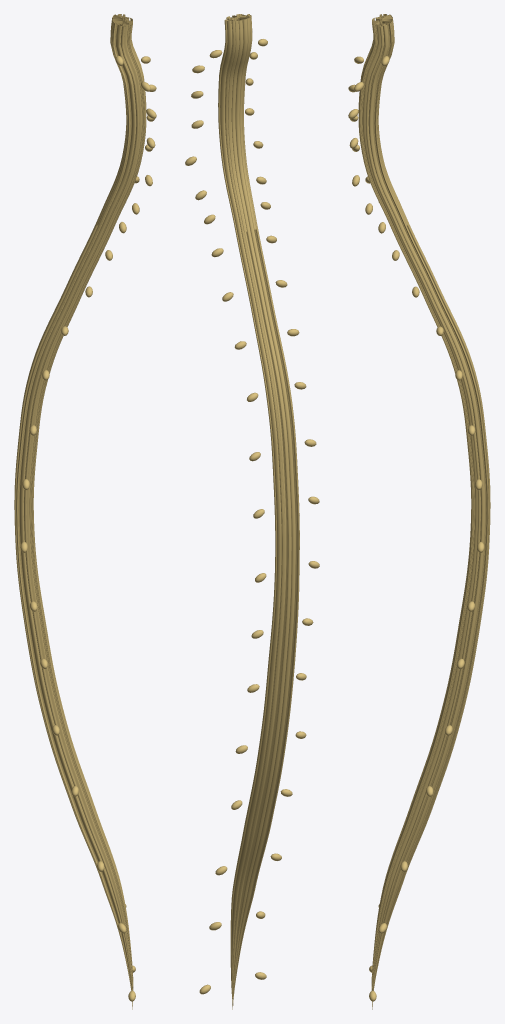
The model's file is detail-nervous-whole-body.glb.
The picture shows the model from 3 angles, left to right: view 1: azimuth 90°, elevation 25°; view 2: azimuth 210°, elevation 25°; view 3: azimuth 270°, elevation 25°; orthographic projection.
Parts seen in each view (by area): view 1: za-794c8e431eacb7d1, za-3147a61f35a69bbc, za-535060ba28efe570, za-5c920ed8e05618fb, za-13360d38b338aaea, za-e3a7a675aace38d2, za-fe5159e5497d60cb, za-53b4f8adfc29835c, za-d963b4cef1d99f9d, za-4b75edaa37323a57, za-6df30f7fd95fc127, za-dd7c6d2fd792ba56; view 2: za-fe5159e5497d60cb, za-535060ba28efe570, za-3147a61f35a69bbc, za-6d7f4eff938b5842, za-5c920ed8e05618fb, za-2bfb4070e730cfe8, za-dd7c6d2fd792ba56, za-53b4f8adfc29835c, za-794c8e431eacb7d1; view 3: za-794c8e431eacb7d1, za-3147a61f35a69bbc, za-535060ba28efe570, za-5c920ed8e05618fb, za-13360d38b338aaea, za-e3a7a675aace38d2, za-fe5159e5497d60cb, za-2bfb4070e730cfe8, za-4b75edaa37323a57, za-d963b4cef1d99f9d, za-6df30f7fd95fc127, za-dd7c6d2fd792ba56.
Boxes of the visible parts, left/top/right/bottom form: za-794c8e431eacb7d1: left=18, top=15, right=142, bottom=1009; za-3147a61f35a69bbc: left=19, top=14, right=135, bottom=990; za-535060ba28efe570: left=16, top=14, right=132, bottom=1005; za-5c920ed8e05618fb: left=24, top=14, right=139, bottom=990; za-13360d38b338aaea: left=32, top=18, right=146, bottom=987; za-e3a7a675aace38d2: left=30, top=20, right=146, bottom=988; za-fe5159e5497d60cb: left=14, top=16, right=132, bottom=1006; za-53b4f8adfc29835c: left=20, top=55, right=156, bottom=1001; za-d963b4cef1d99f9d: left=29, top=17, right=142, bottom=987; za-4b75edaa37323a57: left=31, top=18, right=144, bottom=990; za-6df30f7fd95fc127: left=23, top=15, right=136, bottom=989; za-dd7c6d2fd792ba56: left=97, top=15, right=127, bottom=225; za-fe5159e5497d60cb: left=231, top=17, right=295, bottom=1009; za-535060ba28efe570: left=225, top=16, right=299, bottom=1005; za-3147a61f35a69bbc: left=220, top=15, right=299, bottom=1004; za-6d7f4eff938b5842: left=232, top=16, right=296, bottom=1003; za-5c920ed8e05618fb: left=218, top=14, right=276, bottom=1005; za-2bfb4070e730cfe8: left=185, top=50, right=266, bottom=994; za-dd7c6d2fd792ba56: left=228, top=17, right=256, bottom=232; za-53b4f8adfc29835c: left=245, top=39, right=319, bottom=979; za-794c8e431eacb7d1: left=225, top=14, right=282, bottom=996; za-794c8e431eacb7d1: left=362, top=15, right=486, bottom=1009; za-3147a61f35a69bbc: left=369, top=14, right=485, bottom=1002; za-535060ba28efe570: left=372, top=14, right=488, bottom=1005; za-5c920ed8e05618fb: left=365, top=14, right=480, bottom=990; za-13360d38b338aaea: left=358, top=18, right=472, bottom=988; za-e3a7a675aace38d2: left=358, top=20, right=474, bottom=989; za-fe5159e5497d60cb: left=372, top=16, right=490, bottom=1006; za-2bfb4070e730cfe8: left=348, top=56, right=484, bottom=1001; za-4b75edaa37323a57: left=360, top=18, right=473, bottom=990; za-d963b4cef1d99f9d: left=362, top=17, right=475, bottom=987; za-6df30f7fd95fc127: left=368, top=15, right=481, bottom=989; za-dd7c6d2fd792ba56: left=377, top=15, right=407, bottom=225.
Size of the model in its own units: 0.0398 by 0.4905 by 0.0637.
